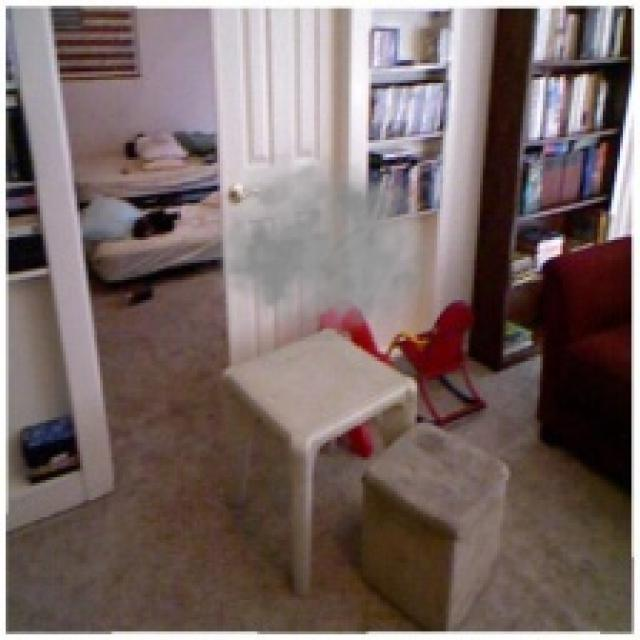Smoke: (194, 140, 443, 343)
